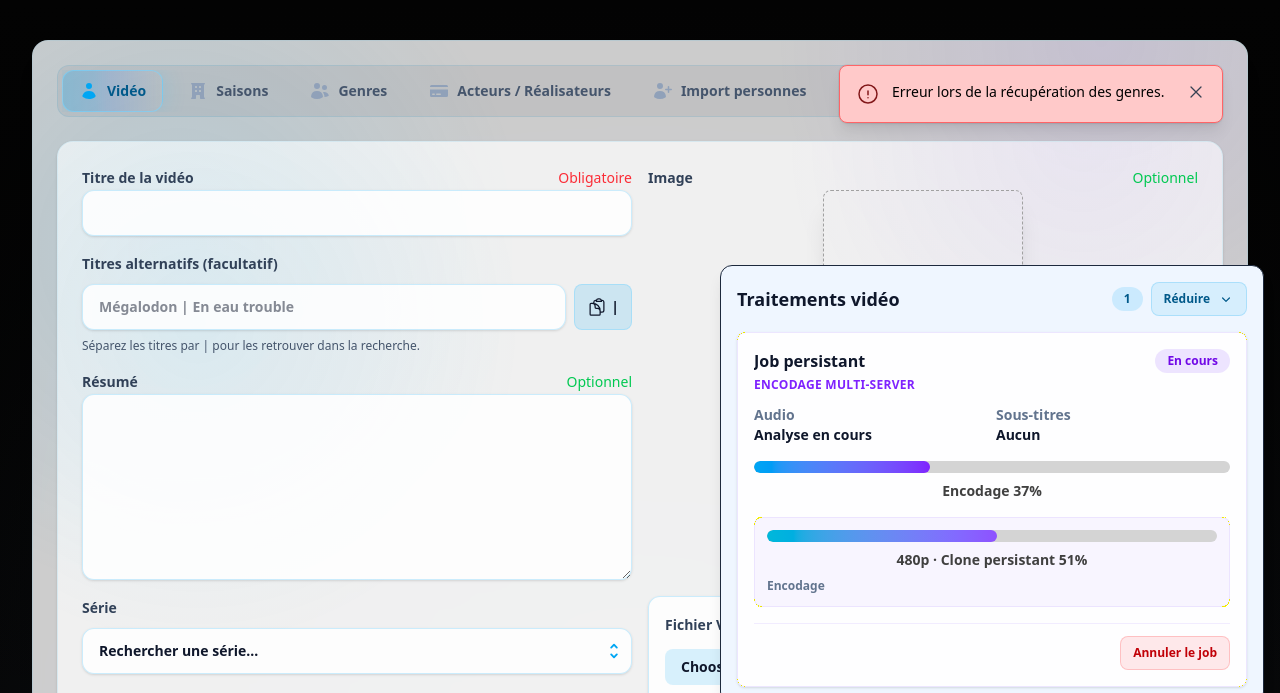
Test: FormNewVideoPage - suivi multi-server persistant › hydrate les jobs récents avec leur détail et installe un polling de deux secondes
Expected: the text "Job persistant" is shown, [754,350,865,372]
Expected: the text "480p · Clone persistant 51%" is shown, [896,550,1087,569]
Click the button "Annuler le job". click: {"x": 1175, "y": 653}
box: [1120,636,1230,670]
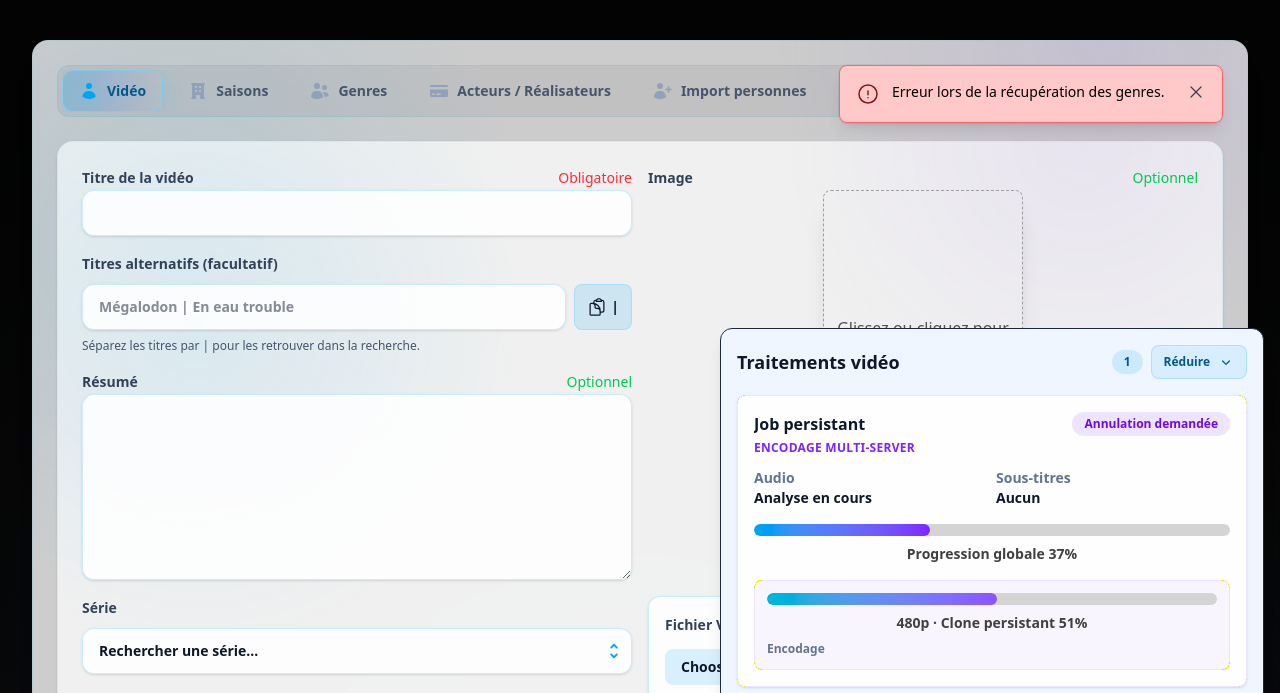
Now the text "Annulation demandée" is shown, box [1072,412,1230,436]
